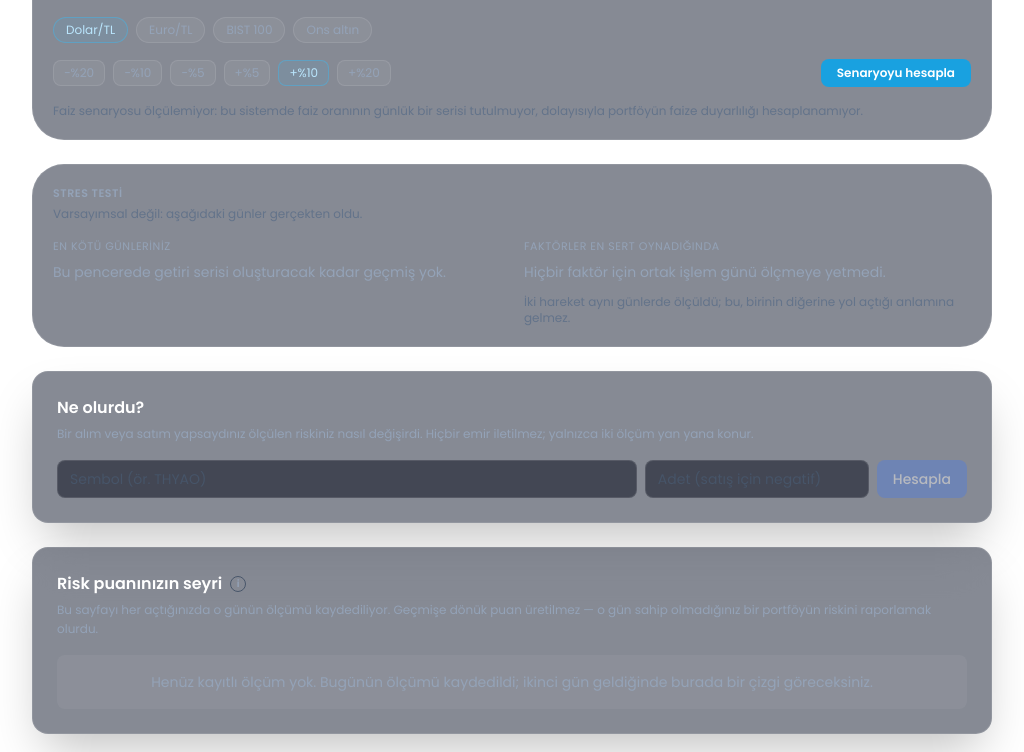
Scenario: Analiz > Senaryo — ne olurdu › sonuç geldiğinde iki ölçümü yan yana koyar
(page scrolled)
Type "NVDA" into the field named "Sembol".
click(347, 478); type("NVDA")  # box 57,460 -> 637,498
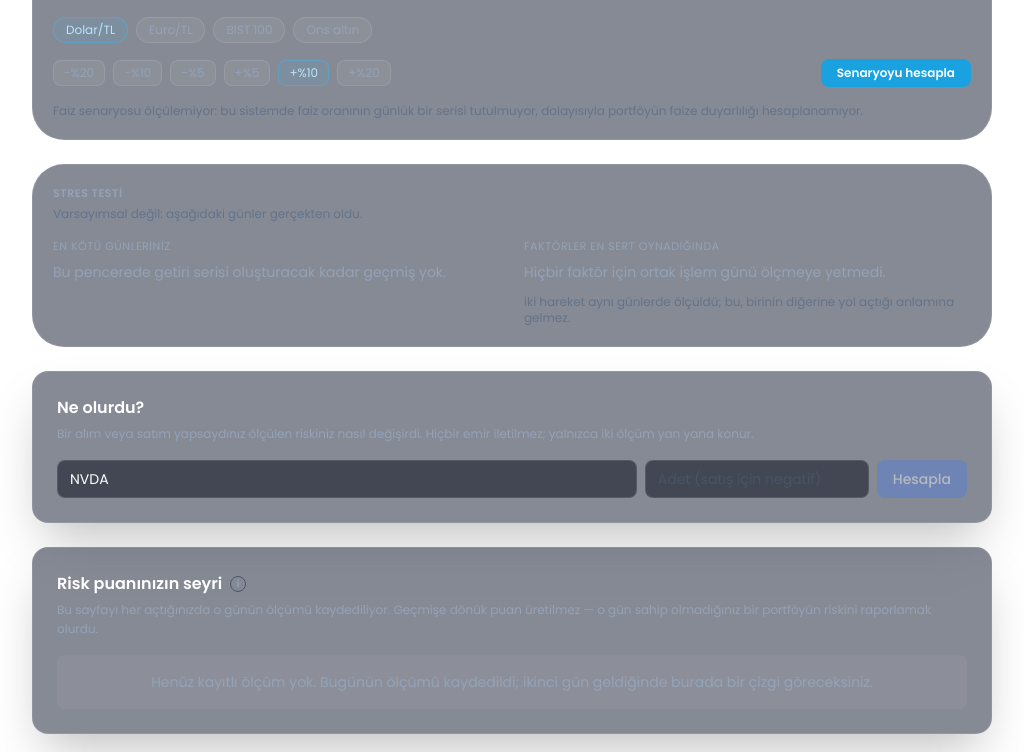
Type "10" into the field named "Adet".
click(757, 478); type("10")  # box 645,460 -> 869,498
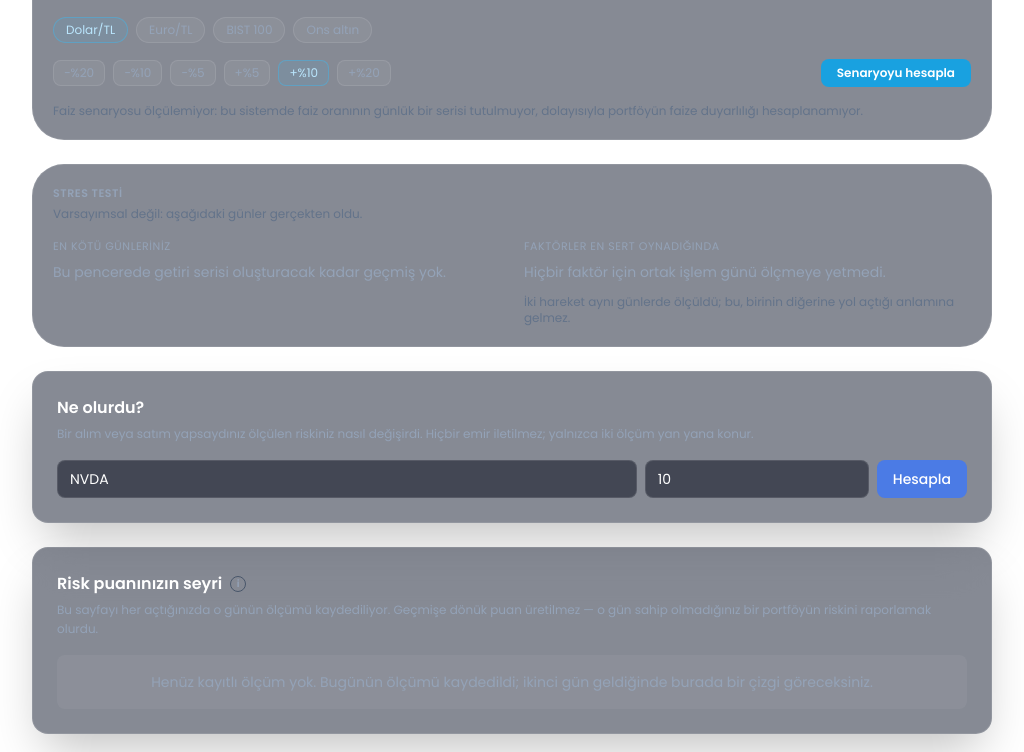
Click the button "Hesapla".
click(922, 478)  # box 877,460 -> 967,498
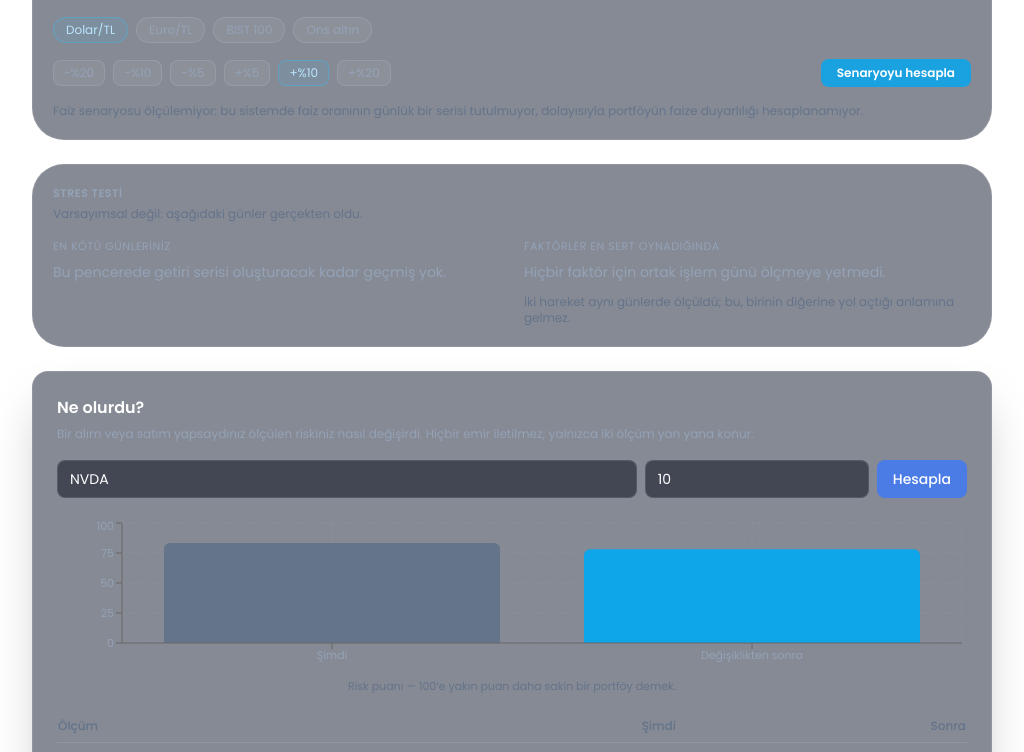
Expected: the text "Şimdi" is shown, 317,646 -> 347,662
Expected: the text "sonra" is shown, 701,646 -> 803,662
